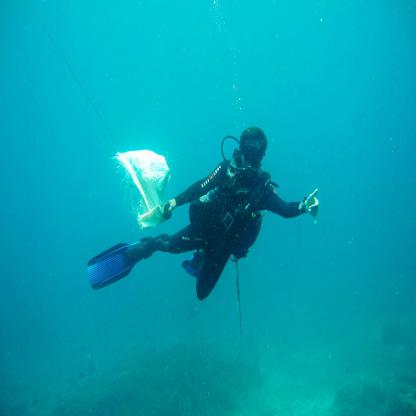waste: (118, 152, 169, 228)
